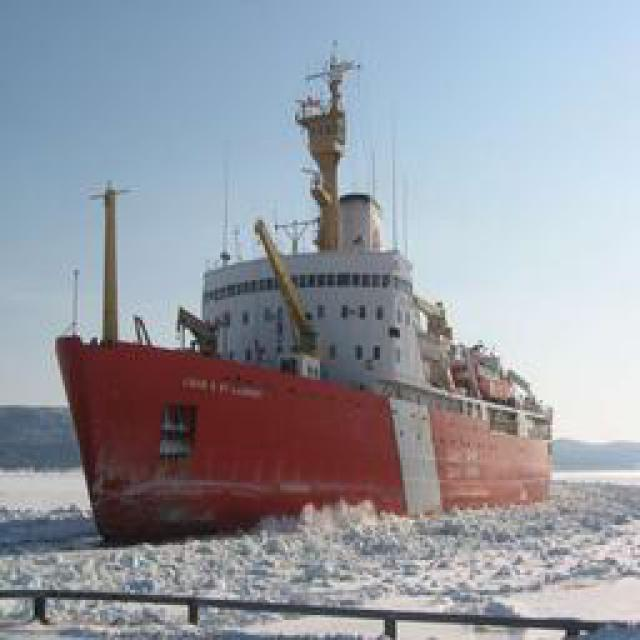Ship: (48, 95, 588, 540)
